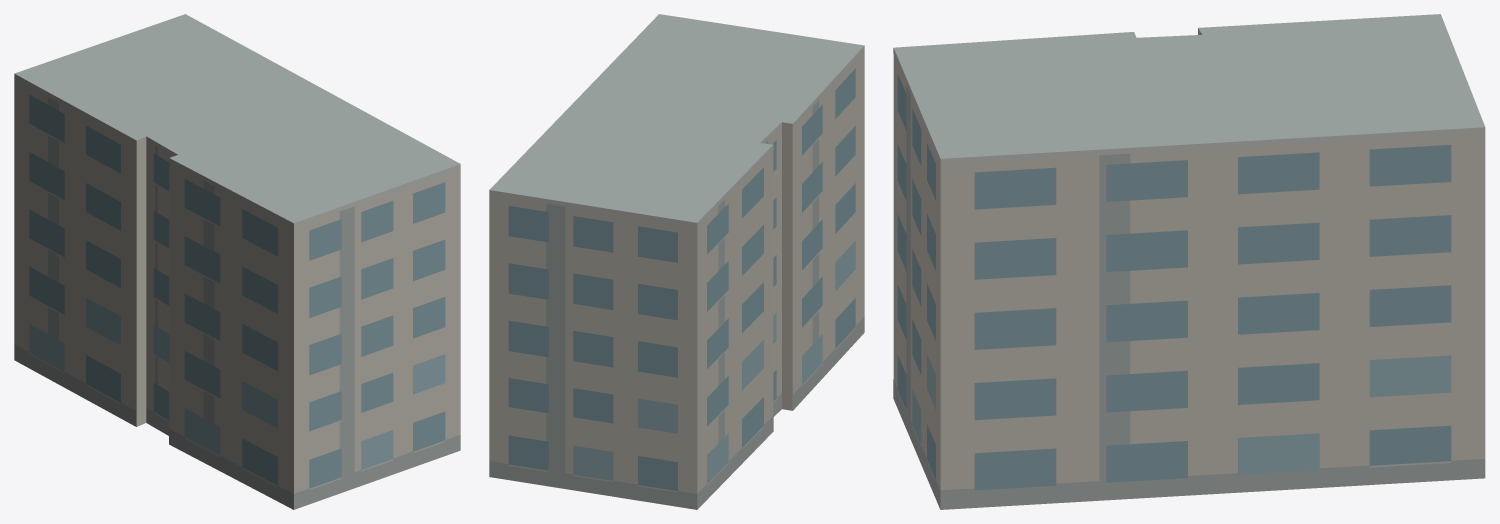
File: survey-upis-32942104.glb
3 views of the same model, side by side, from view 1: azimuth 30°, elevation 25°; view 2: azimuth 150°, elevation 25°; view 3: azimuth 270°, elevation 25° (orthographic). The views are drawn at different scales.
Visible parts, largest first — view 1: survey-upis-32942104.tmp; view 2: survey-upis-32942104.tmp; view 3: survey-upis-32942104.tmp.
Part boxes in pixels (bbox=[...]): survey-upis-32942104.tmp: bbox=[14, 14, 460, 509]; survey-upis-32942104.tmp: bbox=[489, 14, 864, 509]; survey-upis-32942104.tmp: bbox=[893, 14, 1485, 509].
Bounding box in the file's own units: 13.19 × 14.9 × 22.78.
